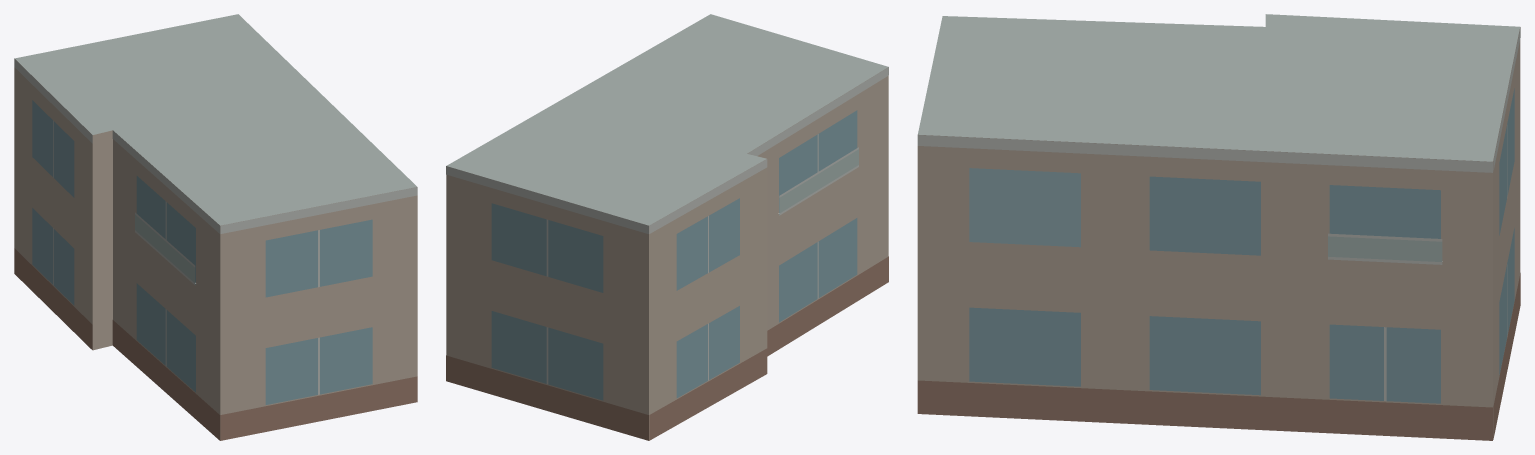
File: survey-upis-32629759.glb
The picture shows the model from 3 angles, left to right: view 1: azimuth 30°, elevation 25°; view 2: azimuth 150°, elevation 25°; view 3: azimuth 270°, elevation 25°; orthographic projection. The views are drawn at different scales.
Visible parts, largest first — view 1: survey-upis-32629759.tmp; view 2: survey-upis-32629759.tmp; view 3: survey-upis-32629759.tmp.
Part boxes in pixels (<box>): survey-upis-32629759.tmp: <box>14,14,417,440</box>; survey-upis-32629759.tmp: <box>446,14,888,440</box>; survey-upis-32629759.tmp: <box>917,14,1520,440</box>.
Size of the model in its own units: 6.93 by 6.1 by 11.95.
